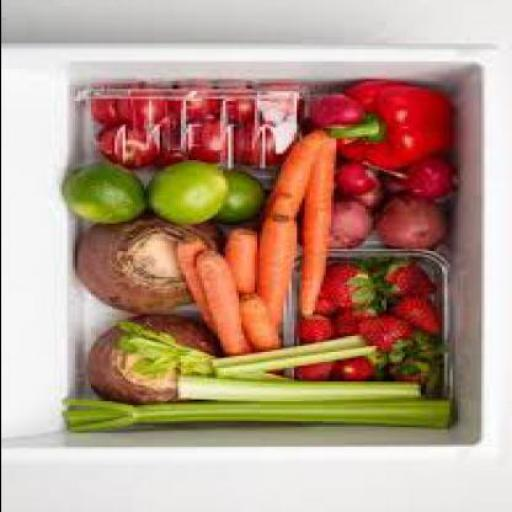biodegradable: (66, 399, 453, 437), (79, 222, 227, 316), (95, 318, 224, 412), (338, 83, 456, 172), (174, 375, 425, 404), (209, 338, 377, 380), (301, 143, 338, 320), (198, 251, 254, 359), (266, 133, 327, 221), (121, 320, 214, 374), (66, 164, 148, 225), (258, 222, 298, 338), (176, 166, 230, 235), (377, 200, 451, 249), (312, 265, 380, 316), (382, 160, 456, 204), (213, 172, 269, 226), (369, 261, 441, 303), (243, 294, 283, 366), (100, 126, 161, 171), (184, 243, 216, 324), (388, 297, 443, 342), (364, 314, 420, 354), (256, 81, 304, 127), (336, 166, 382, 212), (190, 121, 235, 168), (330, 205, 378, 249), (122, 86, 171, 128), (309, 95, 367, 130), (208, 89, 262, 126), (230, 231, 259, 295), (237, 129, 282, 168), (177, 88, 224, 124), (394, 358, 443, 392), (158, 117, 193, 164), (336, 308, 384, 340), (399, 330, 443, 362), (336, 356, 388, 382), (298, 316, 340, 344), (95, 93, 124, 125), (301, 362, 335, 381)
plastic: (282, 250, 454, 400), (80, 82, 308, 168)
